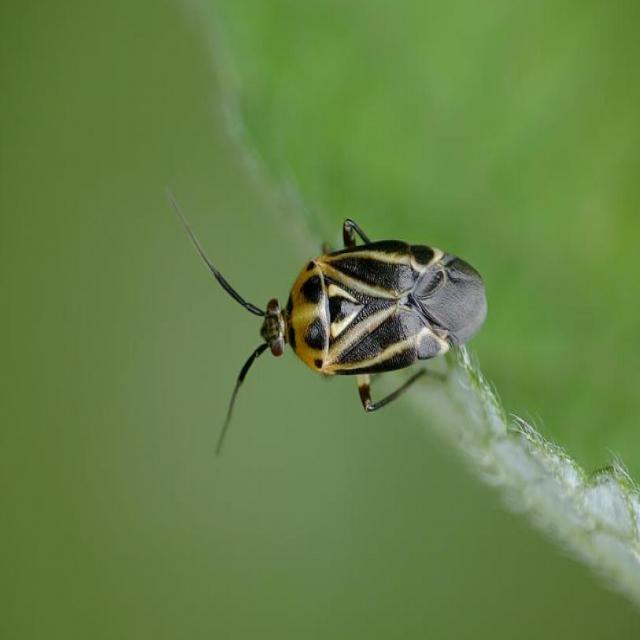Miridae-Adult-: (163, 168, 494, 444)
